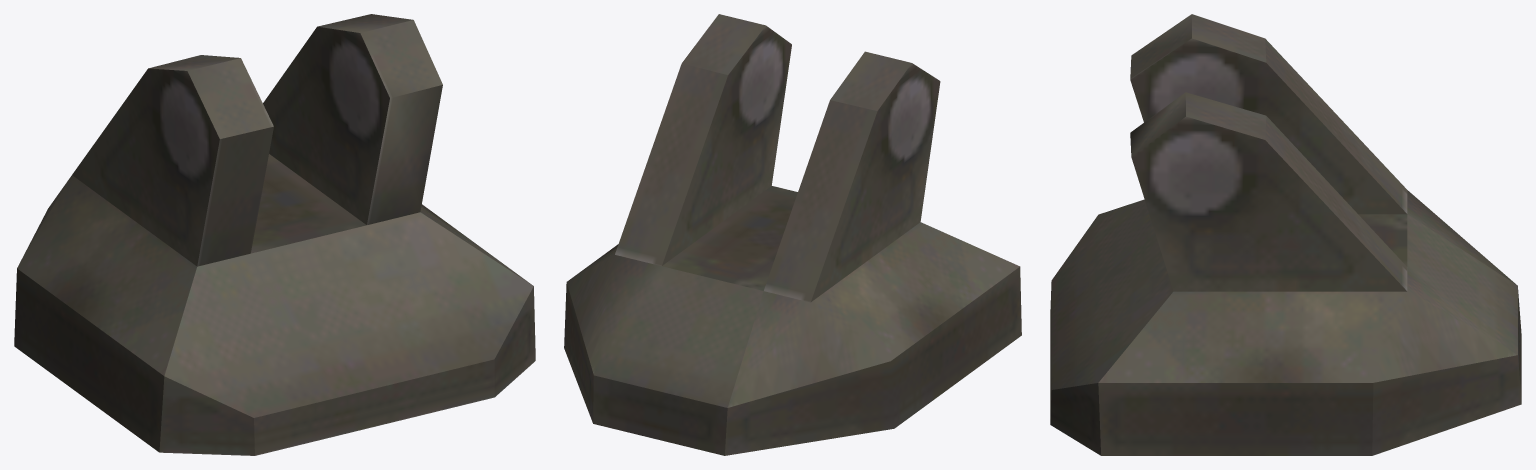
The model's file is kpvt01.fbx.
3 views of the same model, side by side, from view 1: azimuth 30°, elevation 25°; view 2: azimuth 150°, elevation 25°; view 3: azimuth 270°, elevation 25° (orthographic). The views are drawn at different scales.
Parts seen in each view (by area): view 1: polySurface269; view 2: polySurface269; view 3: polySurface269.
Boxes of the visible parts, left/top/right/bottom form: polySurface269: left=14, top=14, right=535, bottom=455; polySurface269: left=564, top=14, right=1021, bottom=455; polySurface269: left=1050, top=14, right=1521, bottom=455.
Size of the model in its own units: 0.8123 by 0.6752 by 0.9444.
